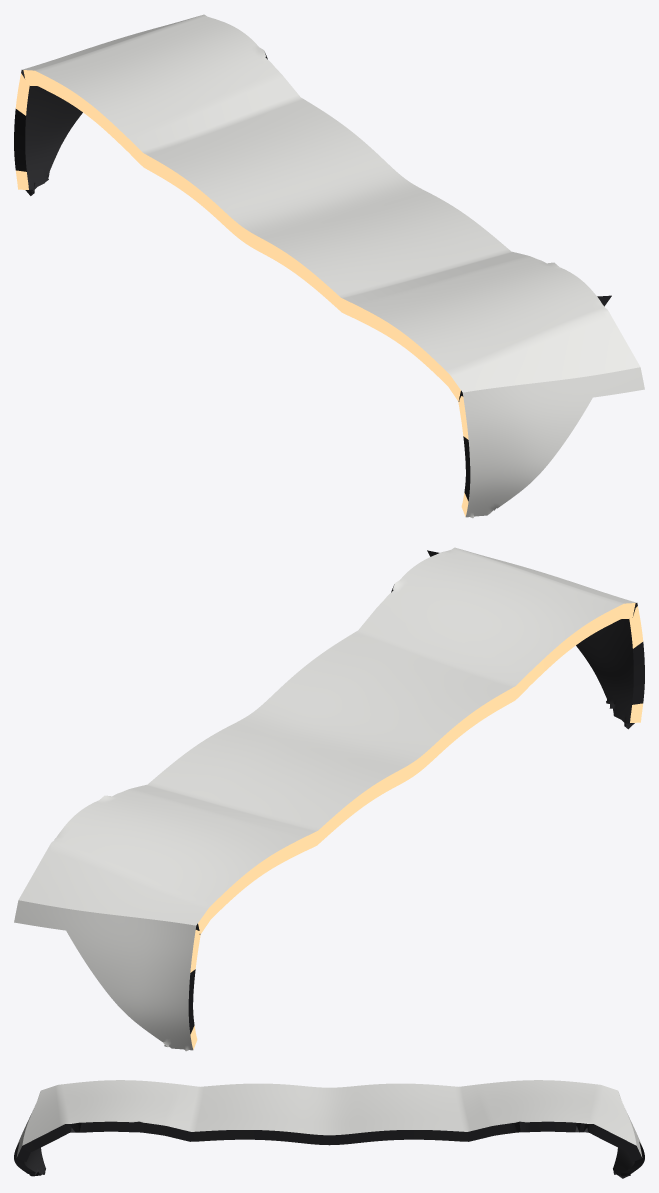
File: SM_Rear_Wing.fbx
3 renders of one model, top to bottom at view 1: azimuth 30°, elevation 25°; view 2: azimuth 150°, elevation 25°; view 3: azimuth 270°, elevation 25°, orthographic. The views are drawn at different scales.
Visible parts, largest first — view 1: Export_Rear_Wing; view 2: Export_Rear_Wing; view 3: Export_Rear_Wing.
Boxes of the visible parts, x1=… form: Export_Rear_Wing: x1=14, y1=14, x2=644, y2=518; Export_Rear_Wing: x1=14, y1=547, x2=644, y2=1051; Export_Rear_Wing: x1=14, y1=1080, x2=644, y2=1178.
Bounding box in the file's own units: 1.9 × 0.4115 × 0.3504.
